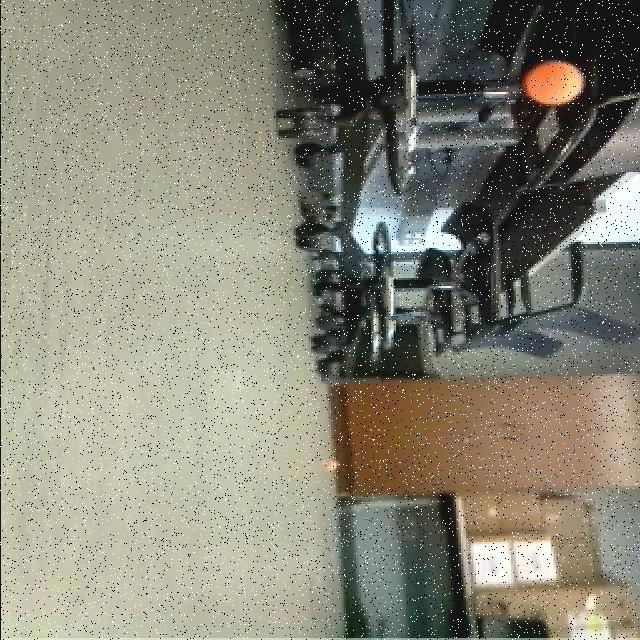ping-pong-ball: (524, 60, 582, 107)
